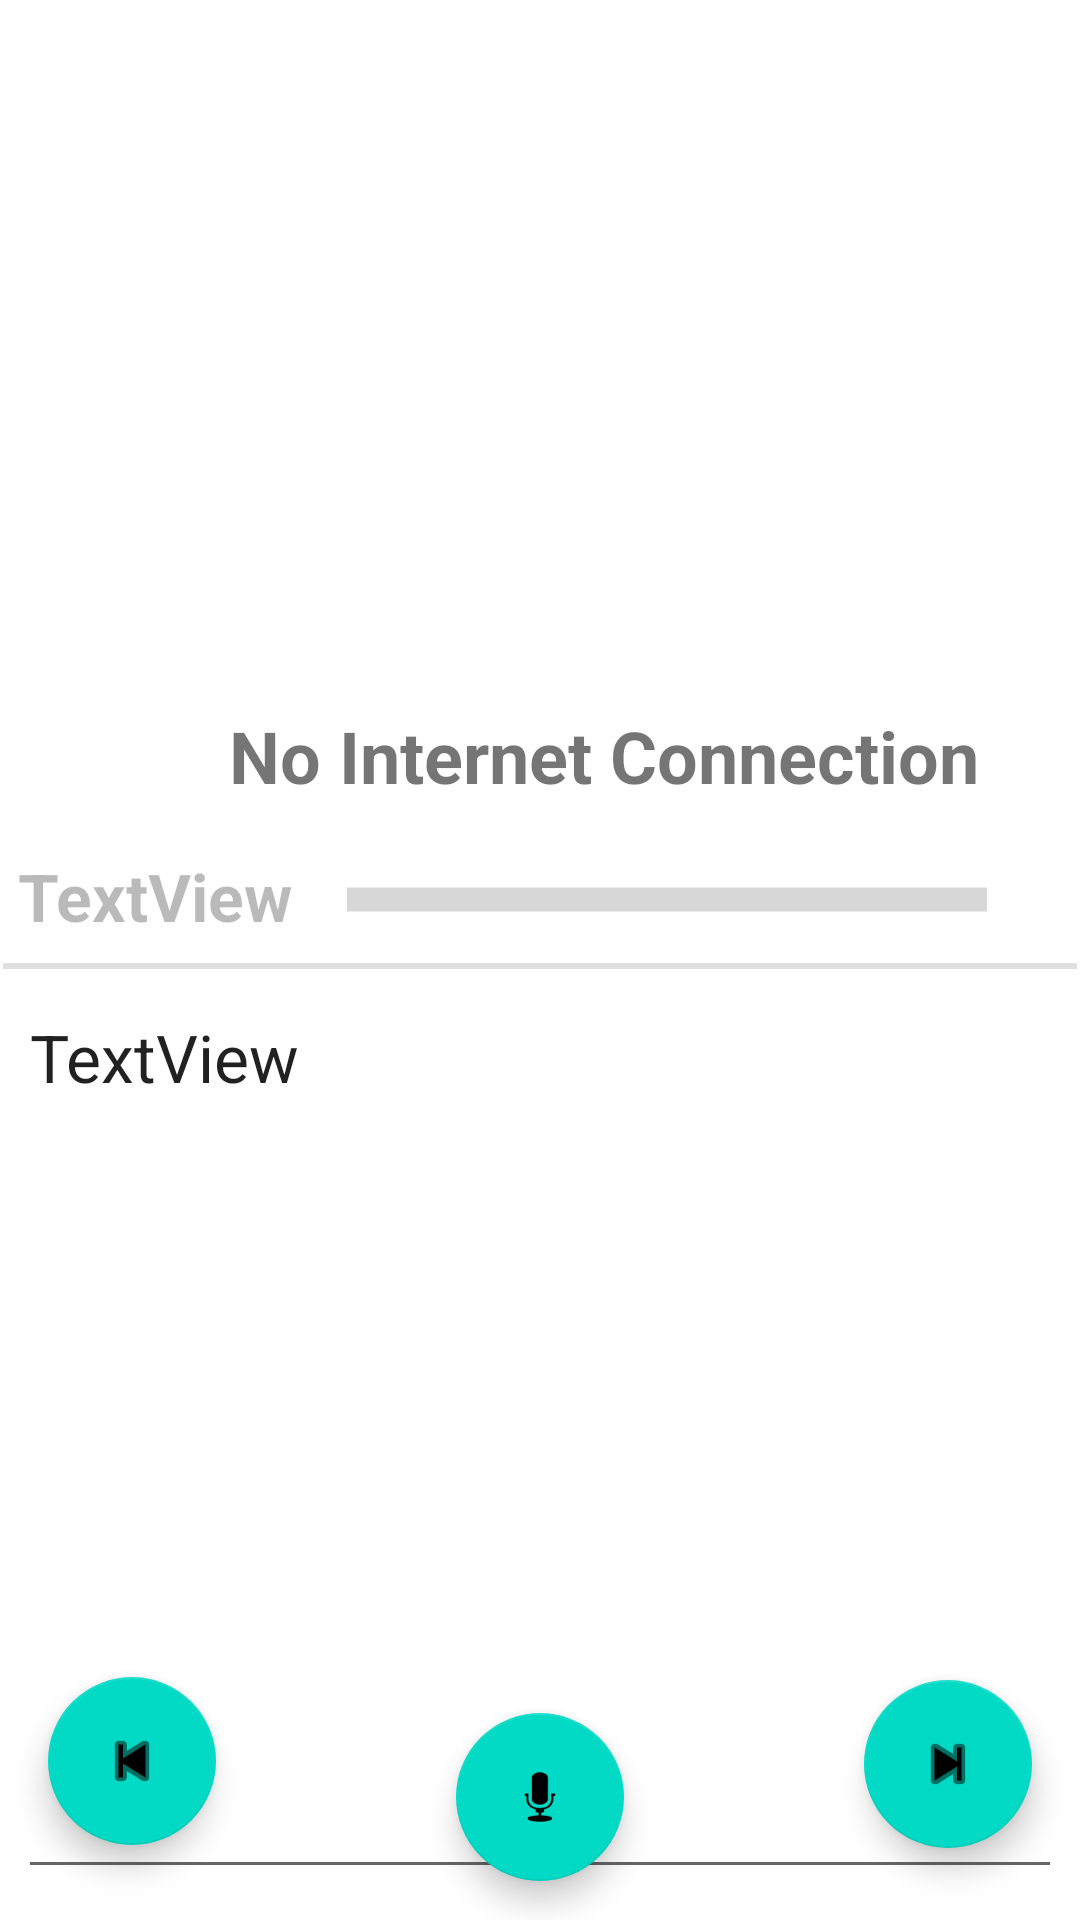

Icon bounding boxes for this 1080w x 1920h phone screenshot, format (left=x1, top=y1, right=x2, bottom=y2):
Next: (left=864, top=1680, right=1032, bottom=1848)
Previous: (left=48, top=1677, right=216, bottom=1845)
speak now: (left=456, top=1713, right=624, bottom=1881)
